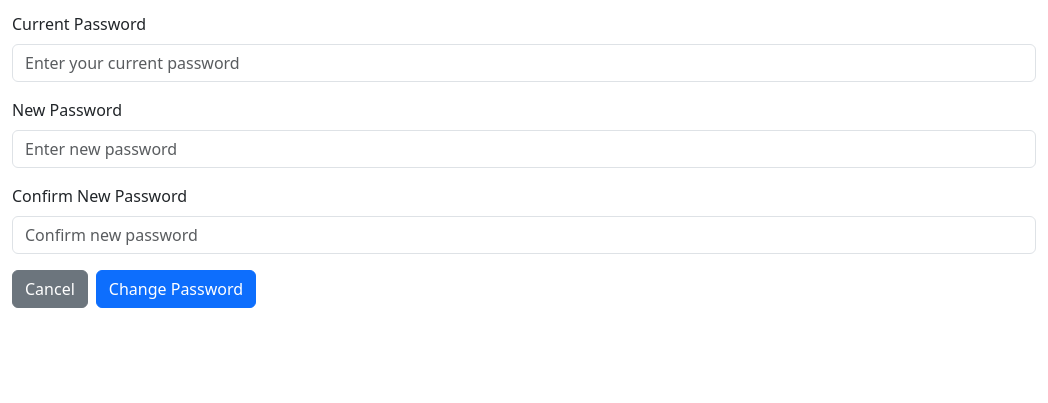
Scenario: ChangePassword › validation errors › displays error when new password is empty
In the password field labelled "Current Password": (524, 63) top-left (12, 44), bottom-right (1036, 82), type "password123"
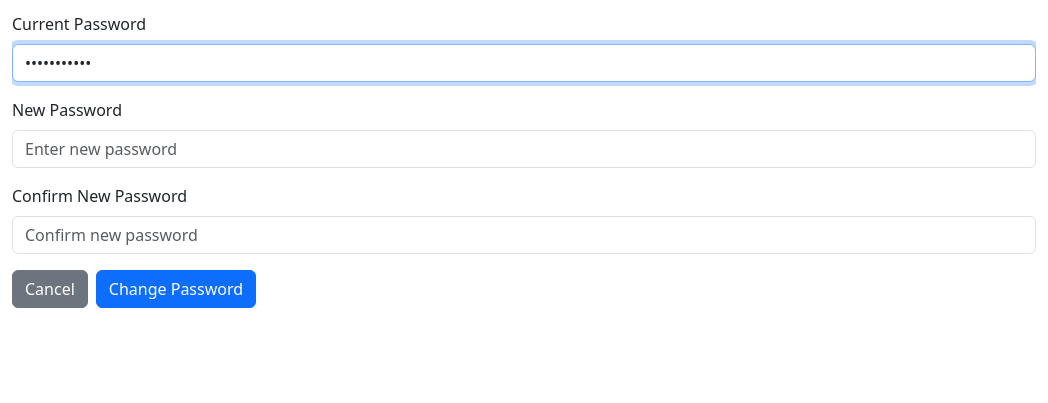
Click the button "Change Password": click(176, 289) top-left (96, 270), bottom-right (256, 308)
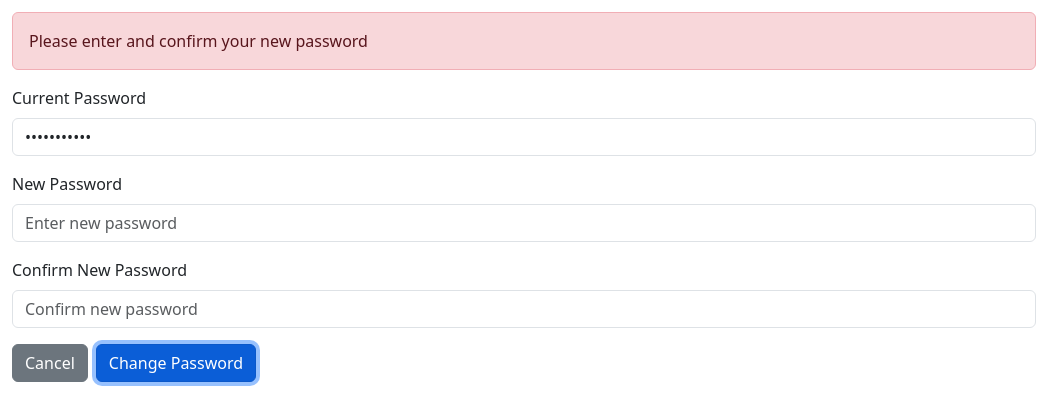
Now the text "Please enter and confirm your new password" is shown, box top-left (12, 12), bottom-right (1036, 70)
